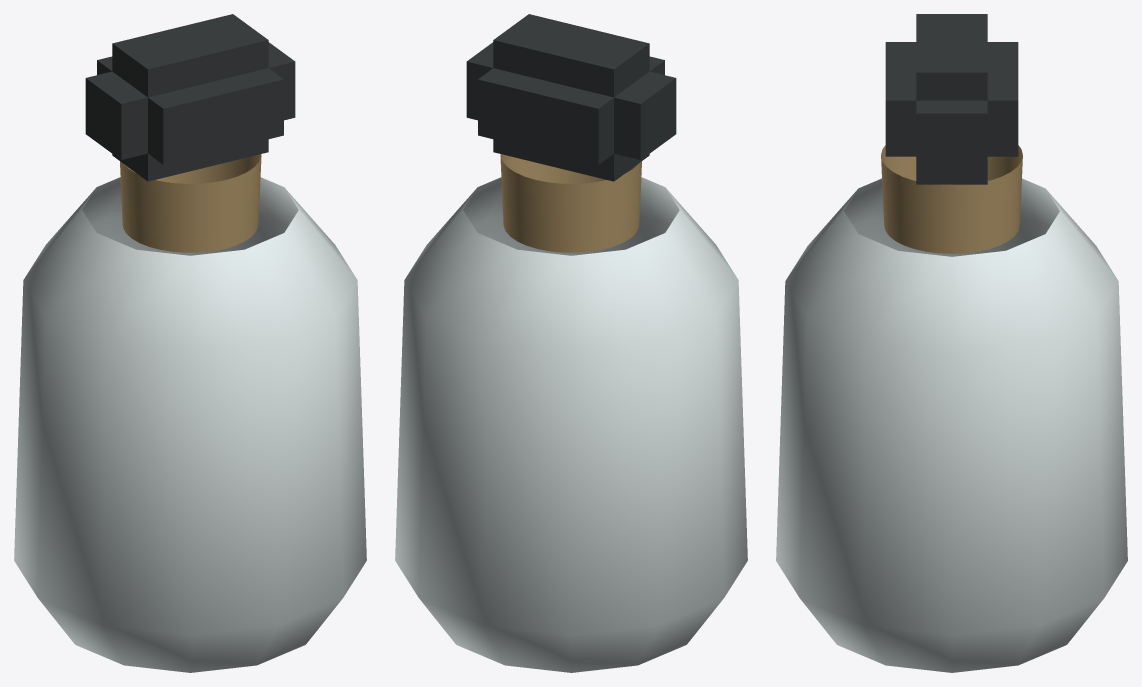
The model's file is sku_v25_fragrance.glb.
3 renders of one model, left to right at view 1: azimuth 30°, elevation 25°; view 2: azimuth 150°, elevation 25°; view 3: azimuth 270°, elevation 25°, orthographic.
Parts seen in each view (by area): view 1: sku_v25_fragrance_Shop_display_glass, sku_v25_fragrance_Anodised_graphite, sku_v25_fragrance_Satin_champagne; view 2: sku_v25_fragrance_Shop_display_glass, sku_v25_fragrance_Anodised_graphite, sku_v25_fragrance_Satin_champagne; view 3: sku_v25_fragrance_Shop_display_glass, sku_v25_fragrance_Anodised_graphite, sku_v25_fragrance_Satin_champagne.
Boxes of the visible parts, <box> form: sku_v25_fragrance_Shop_display_glass: <box>14,177,366,672</box>; sku_v25_fragrance_Anodised_graphite: <box>85,14,295,181</box>; sku_v25_fragrance_Satin_champagne: <box>120,154,261,252</box>; sku_v25_fragrance_Shop_display_glass: <box>395,177,747,672</box>; sku_v25_fragrance_Anodised_graphite: <box>466,14,676,181</box>; sku_v25_fragrance_Satin_champagne: <box>500,154,641,252</box>; sku_v25_fragrance_Shop_display_glass: <box>776,178,1127,672</box>; sku_v25_fragrance_Anodised_graphite: <box>885,14,1018,184</box>; sku_v25_fragrance_Satin_champagne: <box>881,145,1022,253</box>.
Size of the model in its own units: 0.114 by 0.205 by 0.114.
